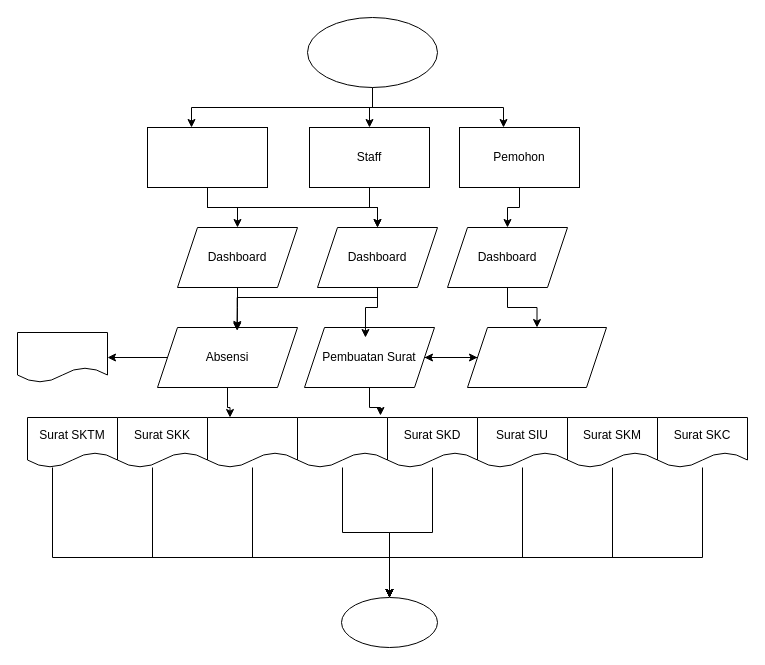
The diagram is 765 pixels wide and 665 high, and some of its shapes have lost their labels. The shapes that lost their labels are listed below. From the top down, each one's box as (x1, y1, x2, y2) in pixels, then its label:
(306, 16, 438, 88): Start
(146, 126, 268, 188): Lurah
(16, 332, 108, 382): Lap Absensi
(466, 326, 606, 388): Permohonan Surat
(206, 416, 298, 468): Surat SKBM
(296, 416, 388, 468): Surat SKU
(340, 596, 438, 648): Finish
